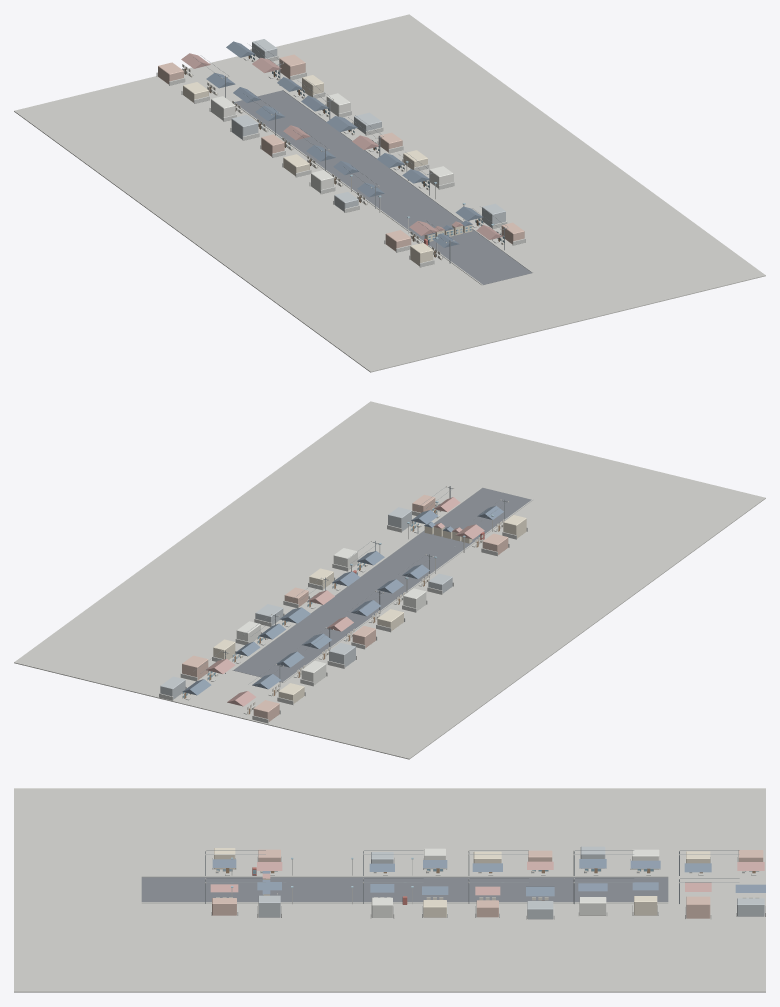
Rendered from residential_day.glb.
3 renders of one model, top to bottom at view 1: azimuth 30°, elevation 25°; view 2: azimuth 150°, elevation 25°; view 3: azimuth 270°, elevation 25°, orthographic. The views are drawn at different scales.
Parts seen in each view (by area): view 1: Static.Pavement, Static.Asphalt, Static.Roof, Static.Concrete, Static.Wall.peach, Static.Wall.cream, Static.Wall.silver, Static.Wall.ivory, Static.Roof.pink, Static.Frame, Static.Steel; view 2: Static.Pavement, Static.Asphalt, Static.Roof, Static.Concrete, Static.Wall.peach, Static.Wall.cream, Static.Wall.silver, Static.Wall.ivory, Static.Roof.pink, Static.Frame, Static.Steel; view 3: Static.Pavement, Static.Asphalt, Static.Roof, Static.Concrete, Static.Wall.peach, Static.Wall.silver, Static.Wall.cream, Static.Wall.ivory, Static.Steel, Static.Roof.pink, Static.Frame.
Boxes of the visible parts, x1,y1,x2,y2 form: Static.Pavement: (14, 14, 765, 372); Static.Asphalt: (234, 90, 531, 284); Static.Roof: (206, 41, 482, 247); Static.Concrete: (156, 48, 533, 285); Static.Wall.peach: (158, 54, 524, 251); Static.Wall.cream: (183, 75, 472, 265); Static.Wall.silver: (231, 39, 505, 227); Static.Wall.ivory: (211, 93, 453, 192); Static.Roof.pink: (181, 53, 502, 239); Static.Frame: (182, 54, 508, 260); Static.Steel: (193, 42, 507, 263); Static.Pavement: (14, 401, 765, 759); Static.Asphalt: (233, 488, 531, 682); Static.Roof: (182, 505, 503, 695); Static.Concrete: (159, 487, 532, 723); Static.Wall.peach: (182, 494, 508, 721); Static.Wall.cream: (213, 515, 526, 703); Static.Wall.silver: (160, 507, 452, 699); Static.Wall.ivory: (236, 548, 426, 684); Static.Roof.pink: (206, 497, 484, 706); Static.Frame: (182, 486, 508, 714); Static.Steel: (195, 486, 507, 689); Static.Pavement: (14, 788, 765, 992); Static.Asphalt: (141, 877, 668, 901); Static.Roof: (212, 859, 765, 896); Static.Concrete: (141, 856, 765, 919); Static.Wall.peach: (212, 849, 763, 918); Static.Wall.silver: (258, 846, 764, 919); Static.Wall.cream: (214, 848, 710, 917); Static.Wall.ivory: (371, 848, 659, 917); Static.Steel: (205, 850, 744, 903); Static.Roof.pink: (210, 861, 764, 895); Static.Frame: (205, 850, 759, 900).
Bounding box in the file's own units: 64 × 3.73 × 100.
